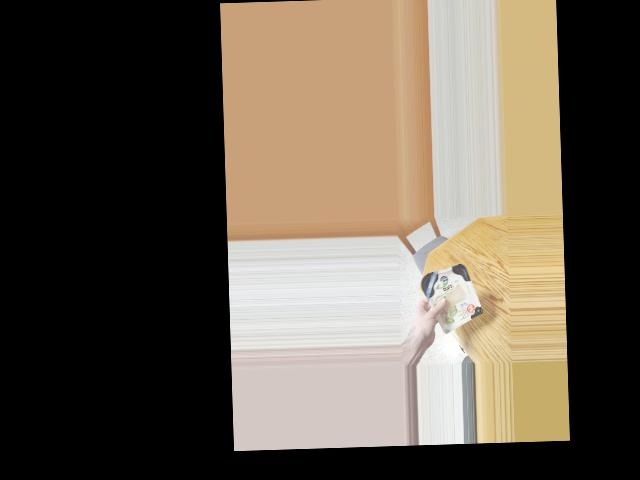cheese: (422, 260, 480, 323)
